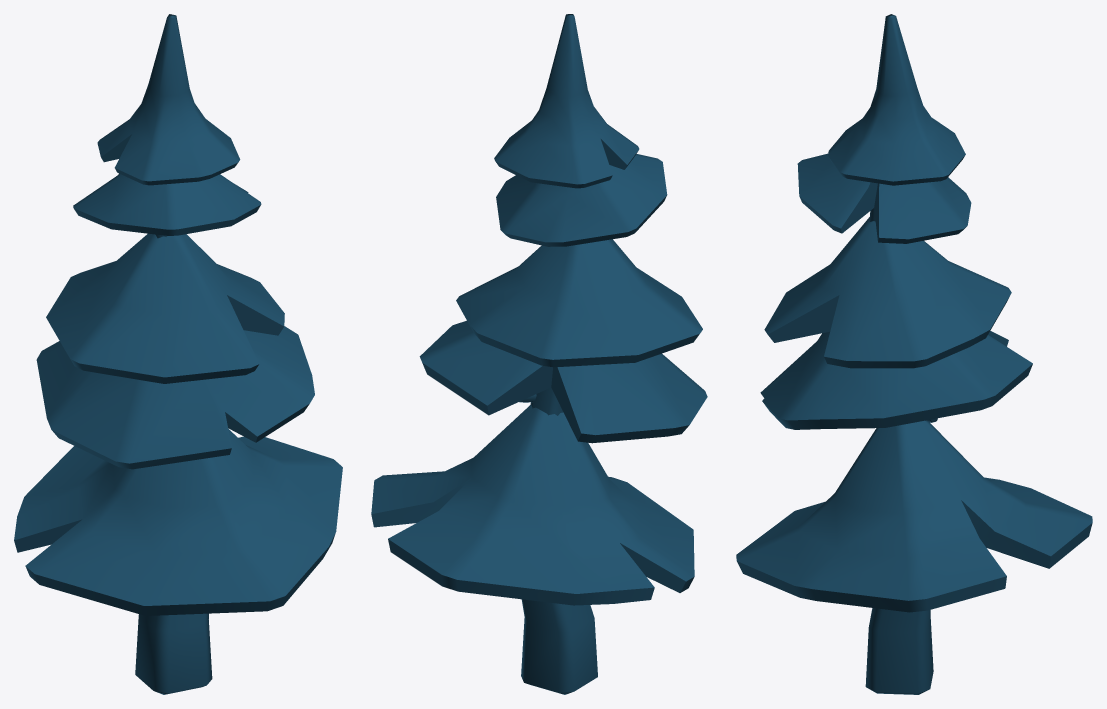
File: tree.gltf
3 views of the same model, side by side, from view 1: azimuth 30°, elevation 25°; view 2: azimuth 150°, elevation 25°; view 3: azimuth 270°, elevation 25° (orthographic).
Visible parts, largest first — view 1: tree_pine_SC_04; view 2: tree_pine_SC_04; view 3: tree_pine_SC_04.
Boxes of the visible parts, box(x1,y1,x2,y2) form: tree_pine_SC_04: box(14, 14, 342, 694); tree_pine_SC_04: box(371, 14, 707, 694); tree_pine_SC_04: box(736, 14, 1092, 694).
Size of the model in its own units: 5.28 by 10.86 by 5.26.
